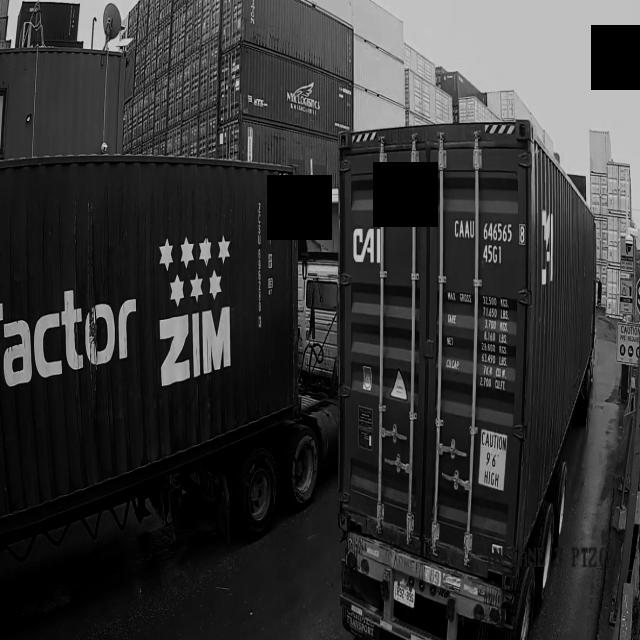container_company_logo: (351, 222, 385, 274)
container_number: (452, 211, 516, 273)
container_side_no: (254, 197, 266, 330)
license_plate: (394, 579, 418, 609)
other_container_info: (444, 280, 518, 398)
truck_with_container: (0, 156, 339, 561), (338, 116, 596, 640)
